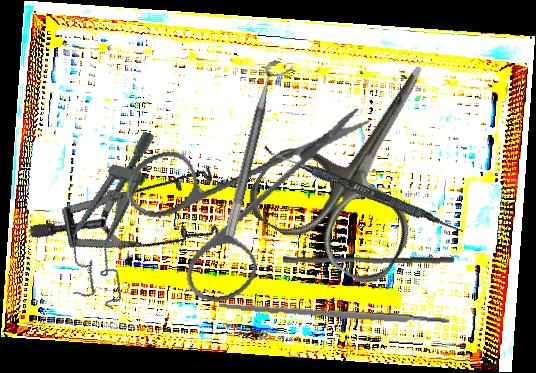Fixation Ring: (223, 58, 294, 241)
Iris Scissors: (106, 64, 374, 326), (239, 25, 490, 293)
Pusher: (282, 250, 455, 269)
Scalpel Handle: (218, 300, 450, 328)
Spatula Surgical: (260, 145, 467, 236)
Speculum: (27, 108, 244, 308), (56, 120, 168, 312)
